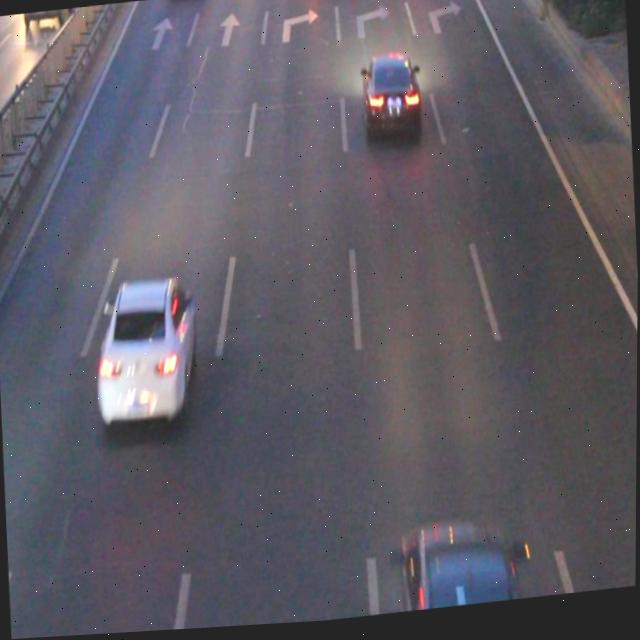car: (95, 279, 199, 425), (397, 523, 530, 617), (360, 59, 421, 142)
